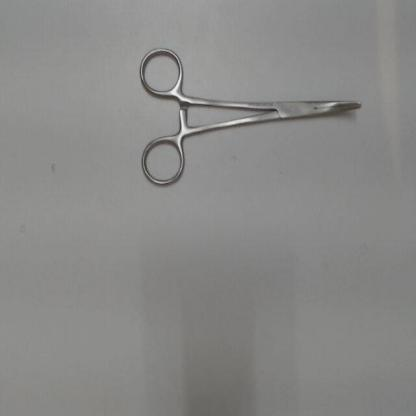Crile Artery Forceps: (138, 40, 370, 188)
